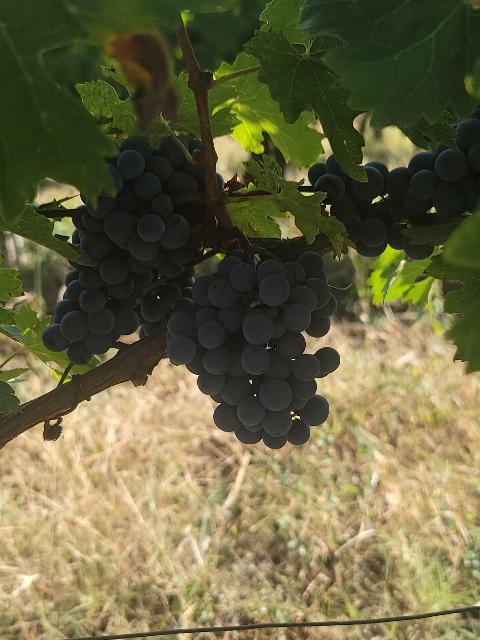grapes: (42, 136, 205, 365), (166, 249, 340, 449), (309, 118, 480, 260)
